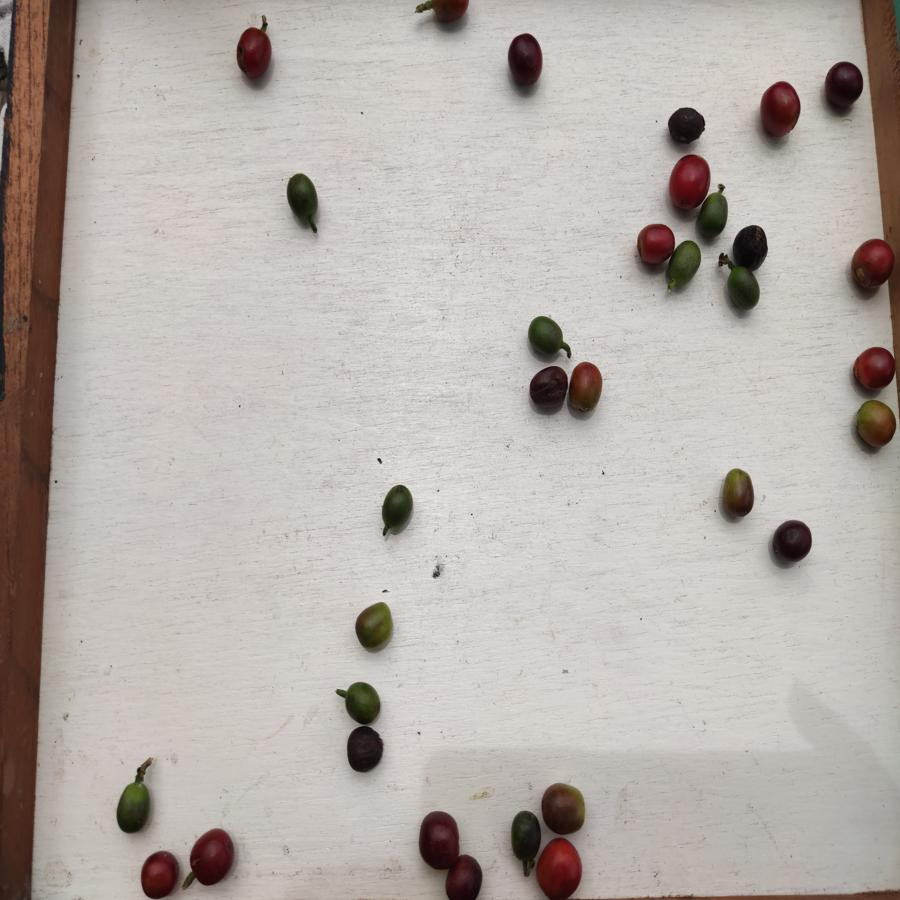Inmaduro: (283, 169, 321, 224), (114, 779, 152, 834), (724, 265, 762, 313), (510, 808, 541, 864), (525, 314, 563, 357), (343, 681, 381, 724), (380, 483, 413, 529), (703, 192, 731, 241), (675, 239, 701, 290)
Maduro: (536, 837, 583, 900), (186, 829, 236, 887), (851, 237, 894, 292), (761, 79, 801, 138), (139, 848, 180, 900), (851, 346, 897, 392), (668, 154, 703, 212), (236, 27, 271, 82), (634, 222, 673, 267), (427, 1, 470, 23)
Pinton: (851, 400, 896, 451), (543, 783, 587, 835), (353, 602, 394, 651), (719, 469, 757, 518), (570, 361, 603, 415)
Sobremaduro: (417, 811, 461, 871), (506, 32, 543, 87), (823, 61, 865, 108), (444, 855, 485, 900), (345, 726, 383, 774), (528, 365, 568, 410), (772, 520, 812, 562), (733, 224, 767, 267), (667, 106, 706, 143)
